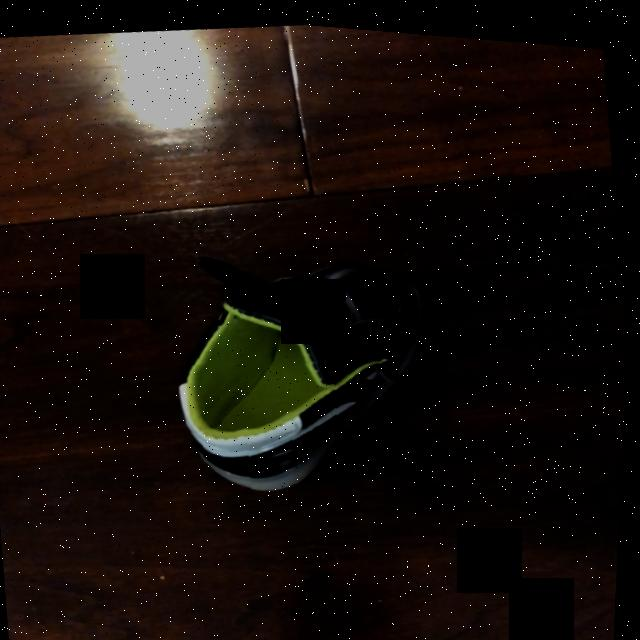shoe: (182, 259, 416, 487)
